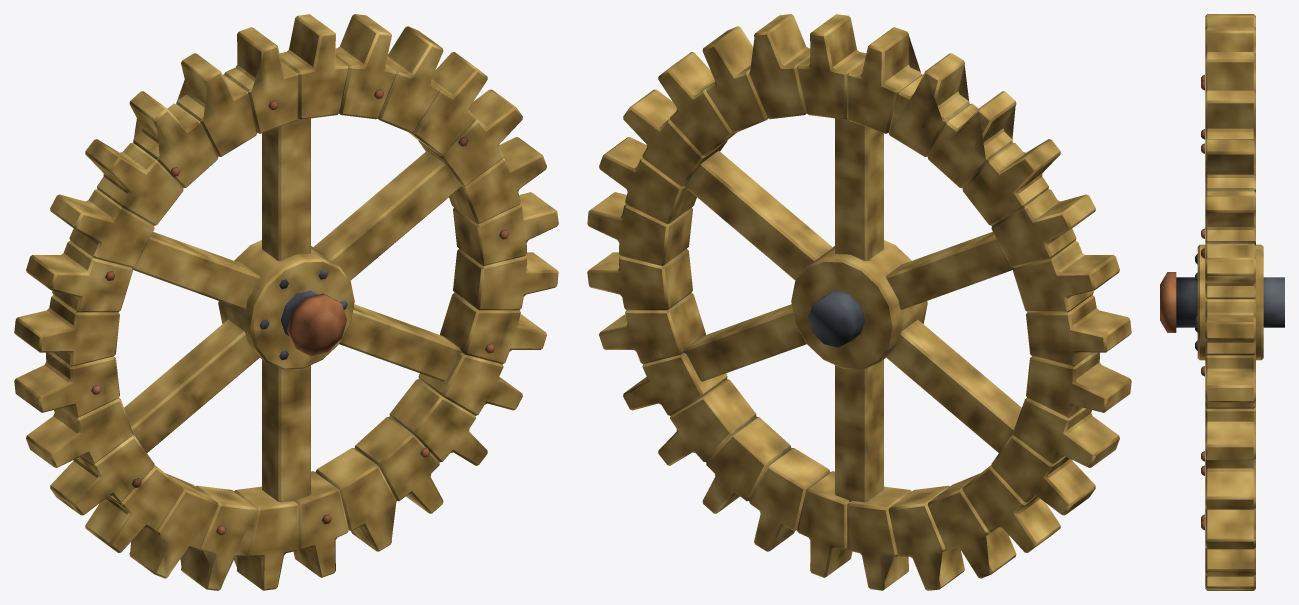
Rendered from ClockLung_Gear.fbx.
3 renders of one model, left to right at view 1: azimuth 30°, elevation 25°; view 2: azimuth 150°, elevation 25°; view 3: azimuth 270°, elevation 25°, orthographic. The views are drawn at different scales.
Parts seen in each view (by area): view 1: ClockLung_Gear; view 2: ClockLung_Gear; view 3: ClockLung_Gear.
Part boxes in pixels (bbox=[...]): ClockLung_Gear: bbox=[14, 14, 558, 590]; ClockLung_Gear: bbox=[587, 14, 1131, 590]; ClockLung_Gear: bbox=[1160, 14, 1284, 590].
Bounding box in the file's own units: 3.19 × 3.19 × 0.69.
